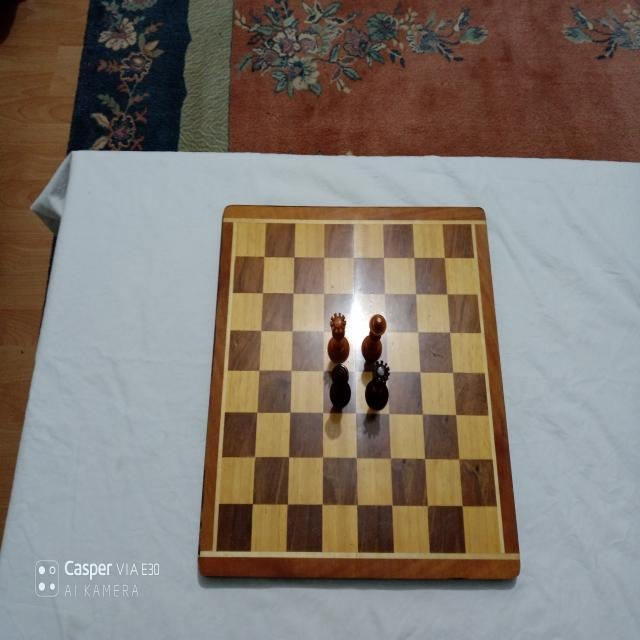black-king: (328, 364, 352, 408)
black-queen: (365, 359, 391, 411)
white-king: (360, 312, 387, 363)
white-queen: (326, 310, 349, 363)
